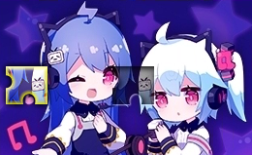gap: (112, 66, 154, 104)
